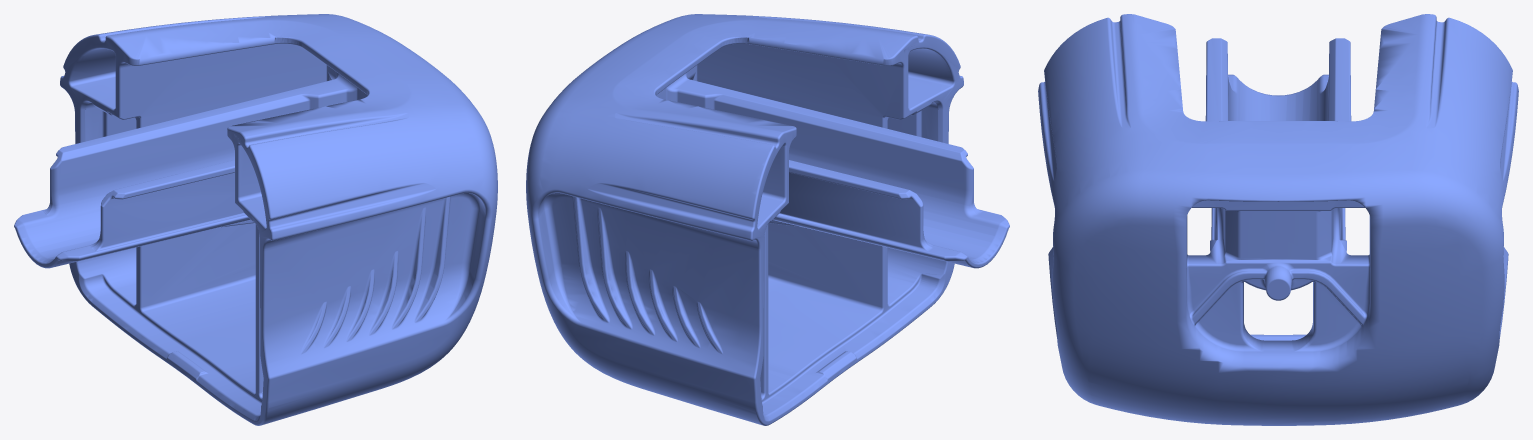
Rendered from cap_01.glb.
3 views of the same model, side by side, from view 1: azimuth 30°, elevation 25°; view 2: azimuth 150°, elevation 25°; view 3: azimuth 270°, elevation 25° (orthographic). The views are drawn at different scales.
Parts seen in each view (by area): view 1: GA_FTP - GEO900375-2; view 2: GA_FTP - GEO900375-2; view 3: GA_FTP - GEO900375-2.
Boxes of the visible parts, x1,y1,x2,y2 form: GA_FTP - GEO900375-2: (14,14,497,425); GA_FTP - GEO900375-2: (526,14,1009,425); GA_FTP - GEO900375-2: (1038,14,1518,425).
Size of the model in its own units: 1.29 by 0.9053 by 1.2.
